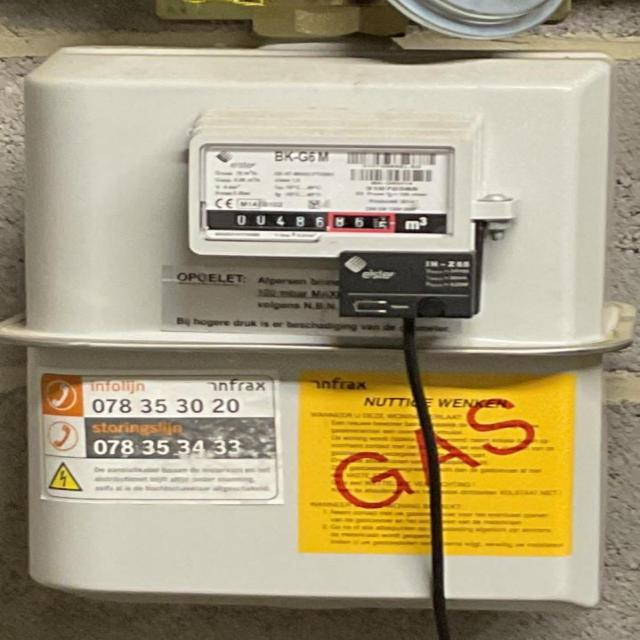gaz_meter: (195, 137, 470, 250)
indication: (224, 209, 402, 235)
